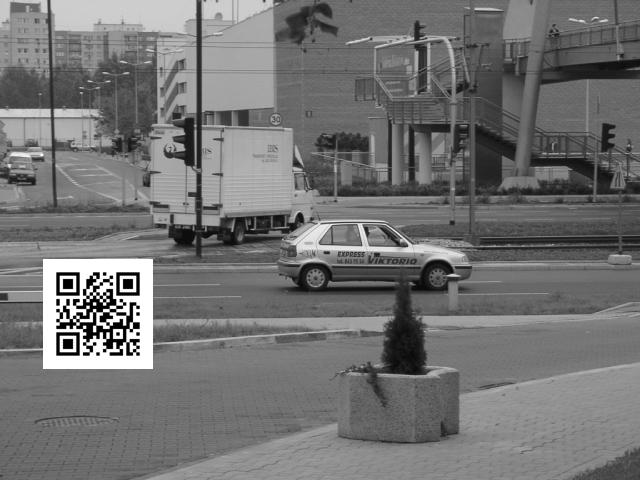qr_code: (42, 258, 153, 368)
